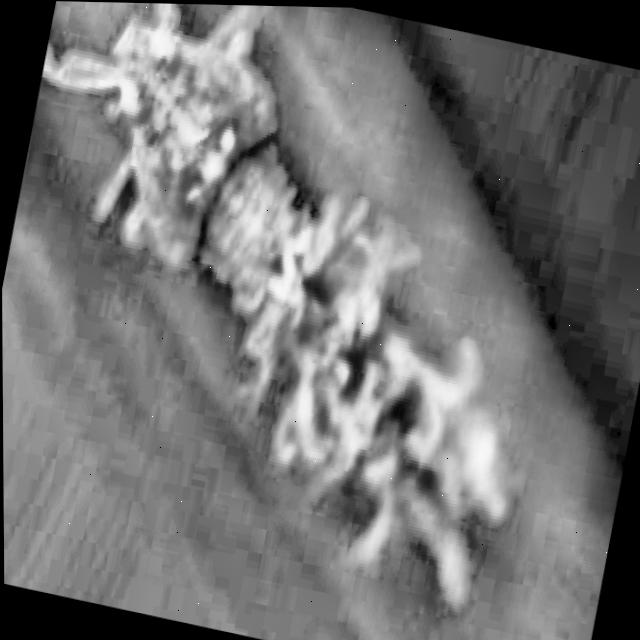Pyrilla-perpusilla: (12, 0, 595, 618)
